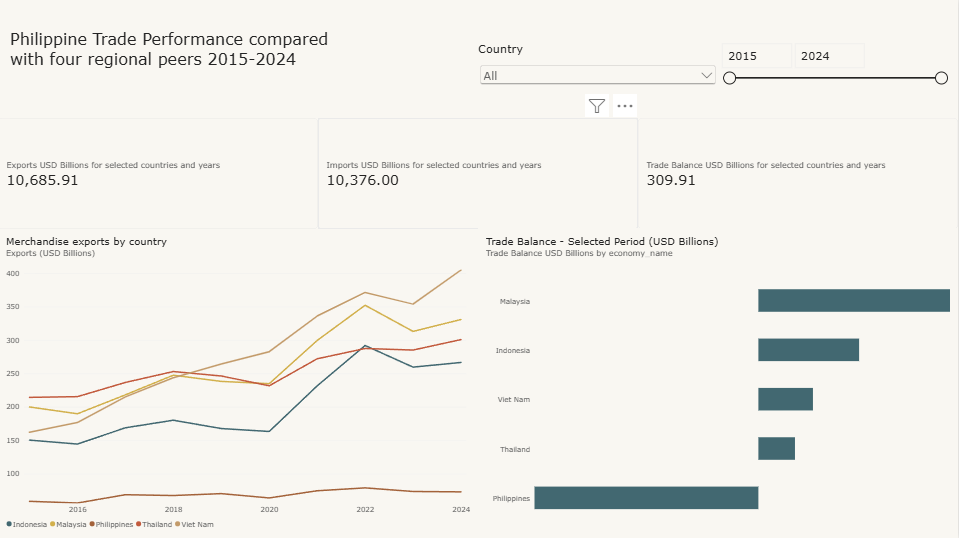

What the dashboard file says about the page in this screenshot:
{"tool":"powerbi","page":{"name":"Page 1","canvas":[1920,1080],"ordinal":0},"visuals":[{"type":"lineChart","title":"Merchandise exports by country","fields":{"Category":["public trade_summary.year"],"Series":["public trade_summary.economy_name"],"Y":["public trade_summary.Exports USD Billions"]},"box":[0,458,960,622],"z":0},{"type":"slicer","fields":{"Values":["public trade_summary.year"]},"box":[1440,83.3,463.3,148.3],"z":1000},{"type":"cardVisual","title":"Exports - Selected Period (USD Billions)","fields":{"Data":["public trade_summary.Exports USD Billions"]},"box":[0,232,640,222],"z":2000},{"type":"slicer","title":"   Country","fields":{"Values":["public trade_summary.economy_name"]},"box":[960,83.3,480,148.3],"z":3000},{"type":"cardVisual","fields":{"Data":["public trade_summary.Imports USD Billions"]},"box":[640,232,640,222],"z":4000},{"type":"cardVisual","fields":{"Data":["public trade_summary.Trade Balance USD Billions"]},"box":[1280,238,640,222],"z":5000},{"type":"clusteredBarChart","title":"Trade Balance - Selected Period (USD Billions)","fields":{"Category":["public trade_summary.economy_name"],"Y":["public trade_summary.Trade Balance USD Billions"]},"box":[960,458,960,622],"z":6000},{"type":"textbox","box":[24,26,936,212],"z":7000}]}

Visuals, with their boxes in screenshot pixels (x1, y1, x2, y2), scaled from the page's 1920x1080 canvas onto the 959x538 screenshot:
"Merchandise exports by country" lineChart: box(0, 228, 480, 537)
slicer - public trade_summary.year: box(719, 41, 951, 115)
"Exports - Selected Period (USD Billions)" cardVisual: box(0, 116, 320, 226)
"   Country" slicer: box(480, 41, 719, 115)
cardVisual - public trade_summary.Imports USD Billions: box(320, 116, 639, 226)
cardVisual - public trade_summary.Trade Balance USD Billions: box(639, 119, 958, 229)
"Trade Balance - Selected Period (USD Billions)" clusteredBarChart: box(480, 228, 958, 537)
textbox: box(12, 13, 480, 119)
